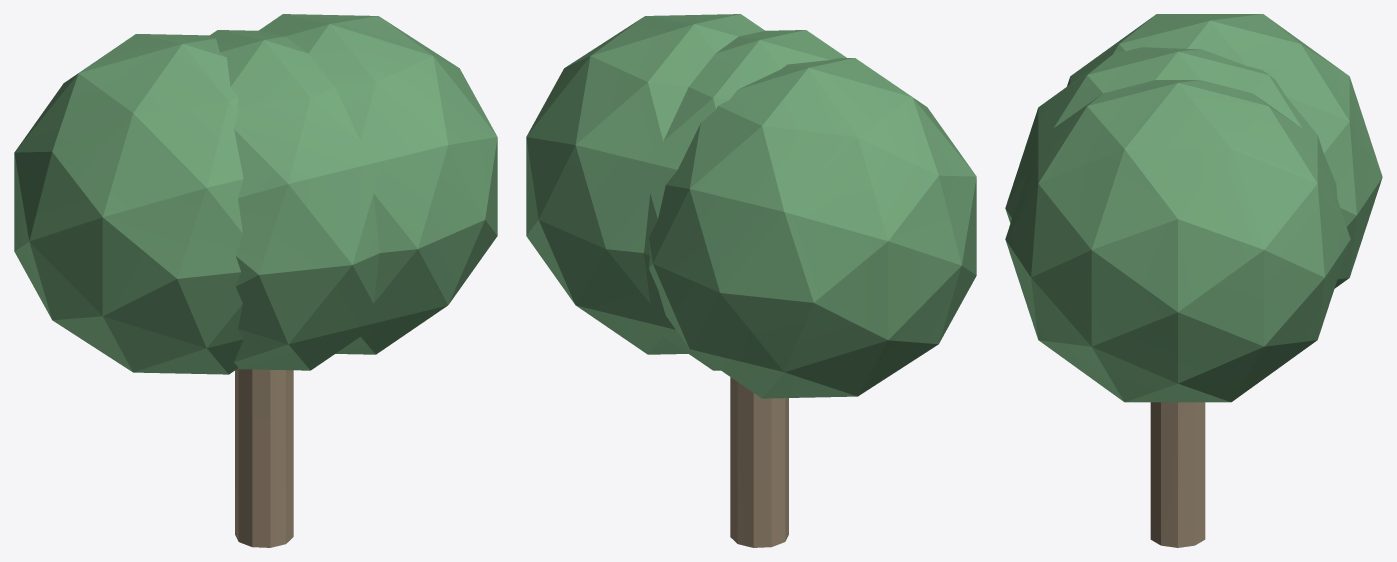
File: broadleaf-08.glb
3 renders of one model, left to right at view 1: azimuth 30°, elevation 25°; view 2: azimuth 150°, elevation 25°; view 3: azimuth 270°, elevation 25°, orthographic. The views are drawn at different scales.
Parts seen in each view (by area): view 1: world; view 2: world; view 3: world.
Part boxes in pixels (x1,y1,x2,y2): world: (14, 14, 497, 547); world: (526, 14, 976, 547); world: (1005, 14, 1382, 547).
Bounding box in the file's own units: 1.54 × 1.67 × 1.18.
